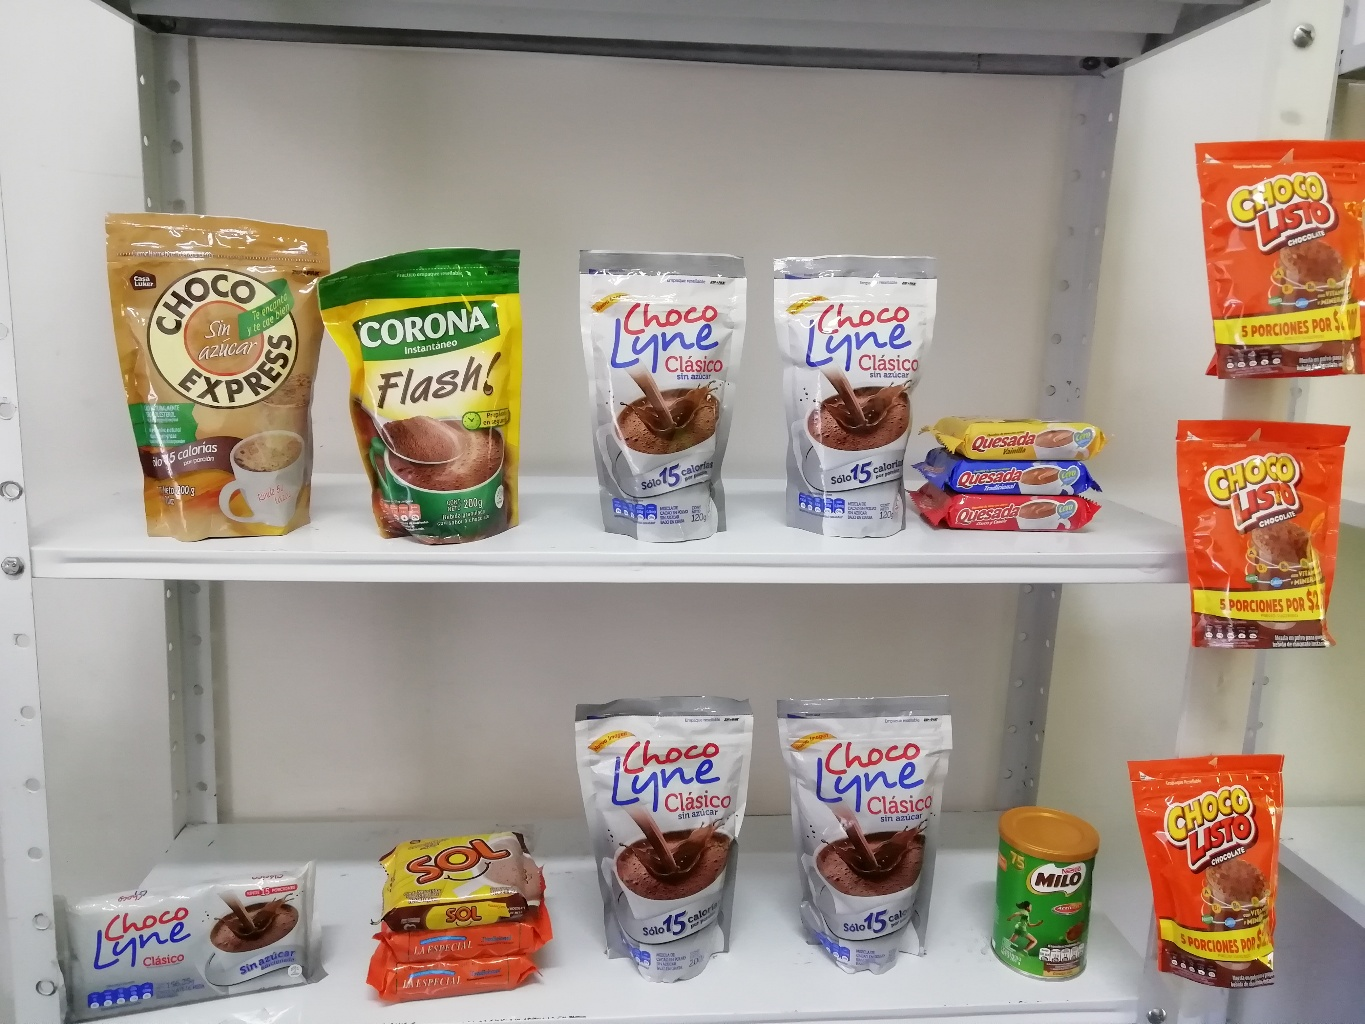COL0170203LAT20000: (971, 803, 1128, 995)
